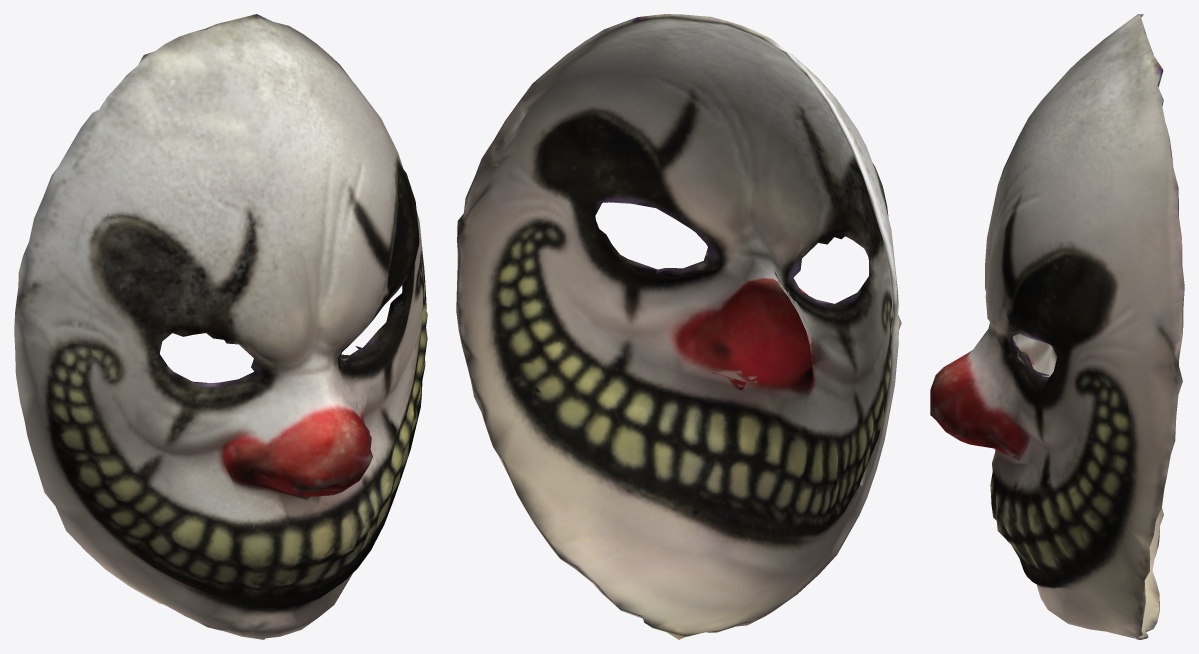
Rendered from crazy_clown_mask.glb.
3 renders of one model, left to right at view 1: azimuth 30°, elevation 25°; view 2: azimuth 150°, elevation 25°; view 3: azimuth 270°, elevation 25°, orthographic. The views are drawn at different scales.
Parts seen in each view (by area): view 1: geo1; view 2: geo1; view 3: geo1.
Part boxes in pixels (x1,y1,x2,y2): geo1: (14, 14, 427, 639); geo1: (456, 14, 901, 639); geo1: (930, 14, 1184, 639).
Size of the model in its own units: 0.1888 by 0.2609 by 0.104.
1 material, 1 textured.
